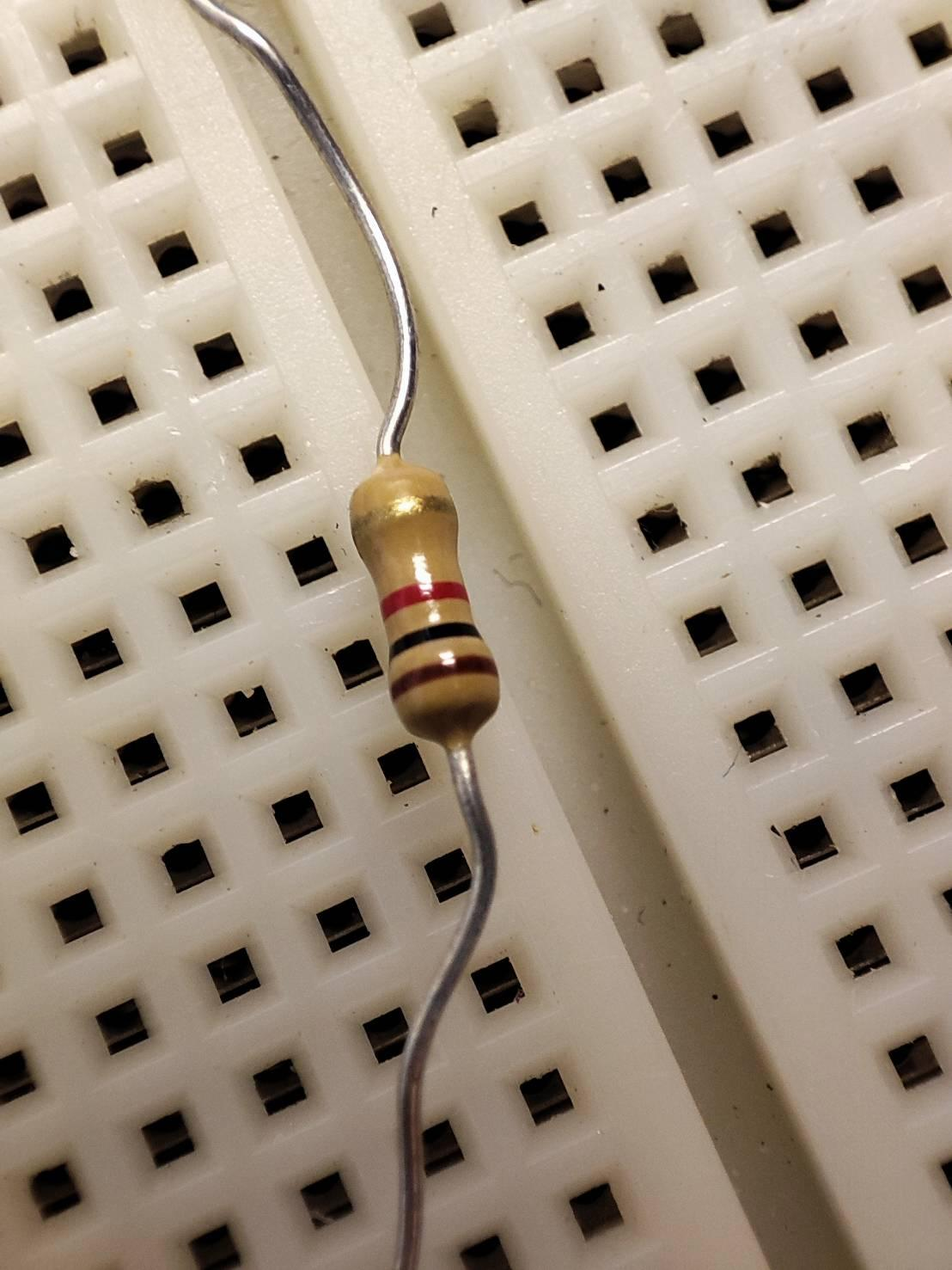resistor: (345, 454, 500, 726)
